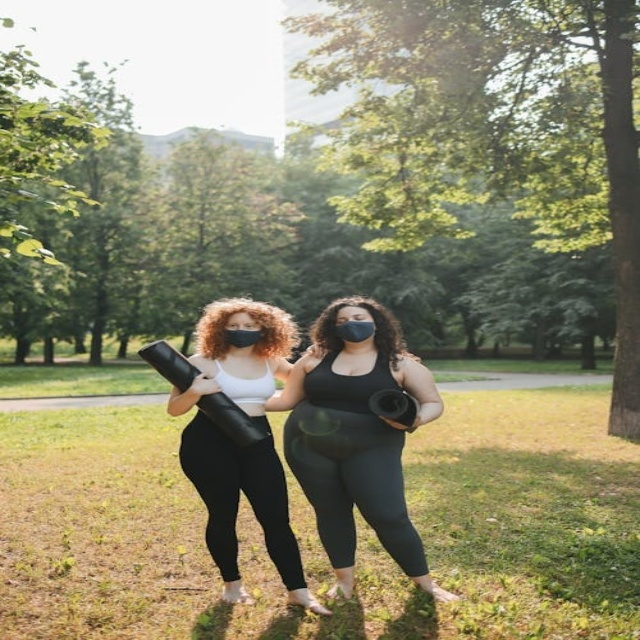Mascara: (334, 320, 376, 343), (223, 328, 265, 348)
Sin_gafas: (221, 318, 260, 328), (334, 311, 369, 320)
Sin_guantes: (187, 371, 224, 396)
